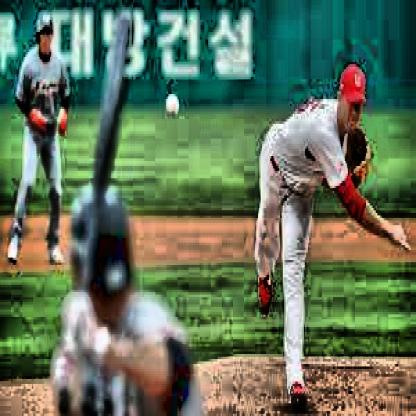baseball: (167, 97, 180, 117)
